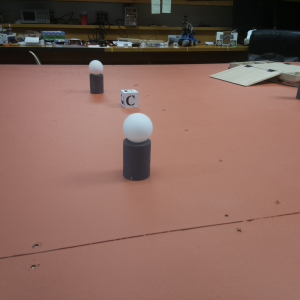blockC: (120, 89, 137, 108)
obstacle: (123, 112, 154, 183), (89, 60, 104, 95)
slope: (215, 65, 275, 86)
